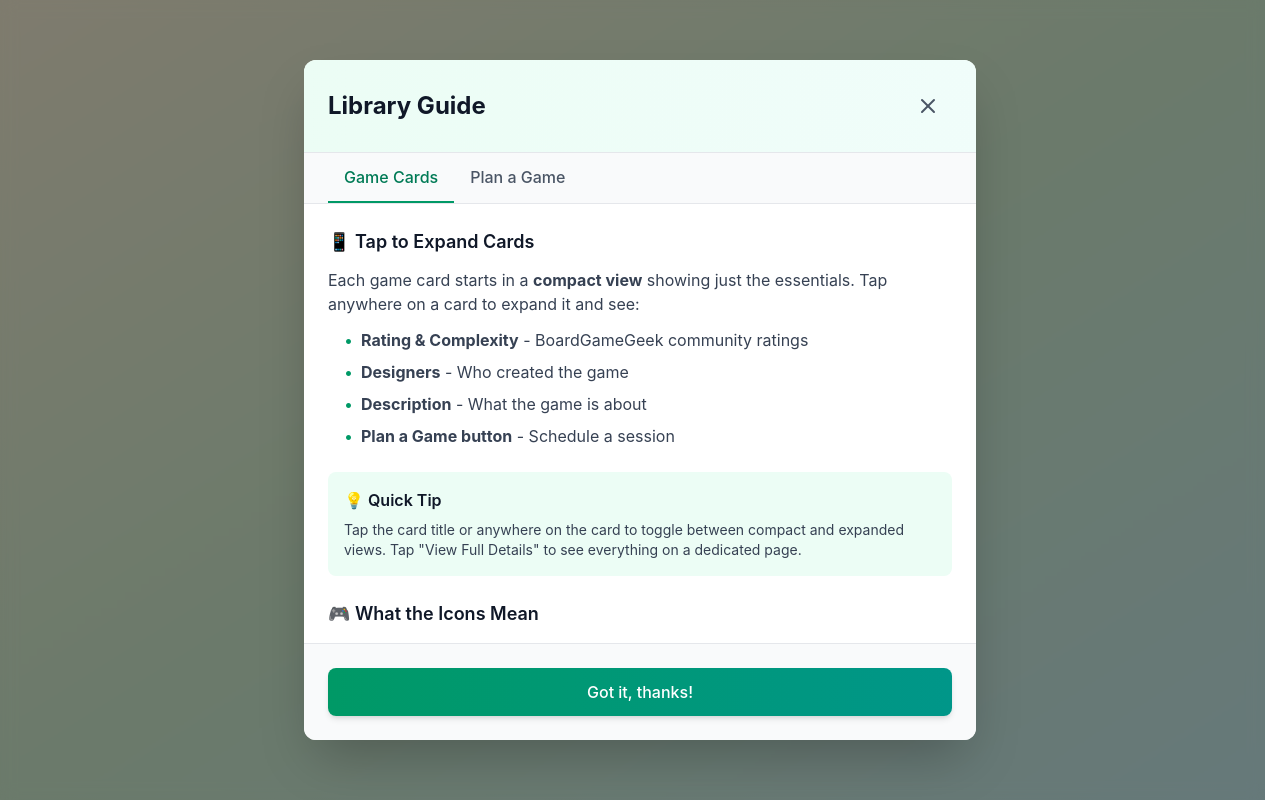
Scenario: HelpModal Component › Tab Switching › switches back to Game Cards tab when clicked
// Switch to AfterGame tab first
Click the button "Plan a Game" at (518, 178), box [454,153,581,203]
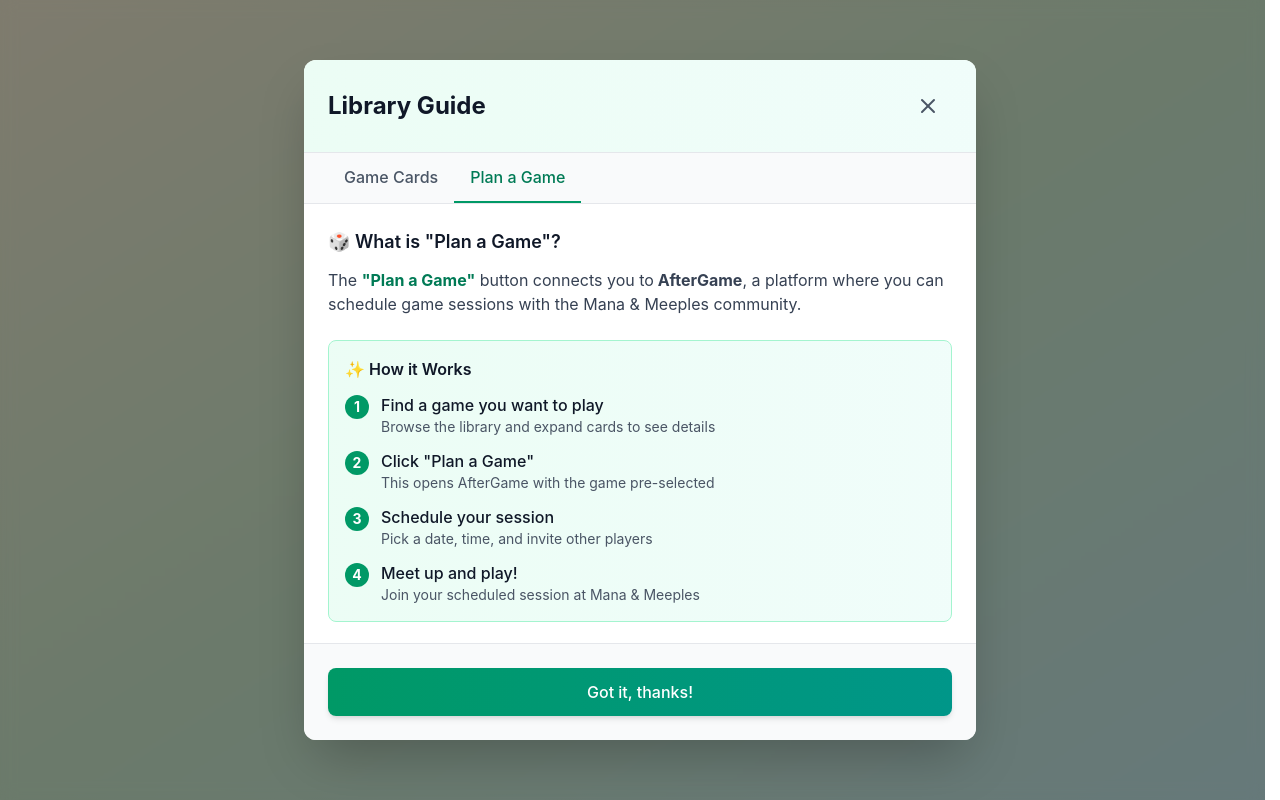
Check: the heading "🎲 What is \"Plan a Game\"?" is shown, box [328,231,561,252]
// Switch back to Game Cards tab
Click the button "Game Cards" at (391, 178), box [328,153,454,203]
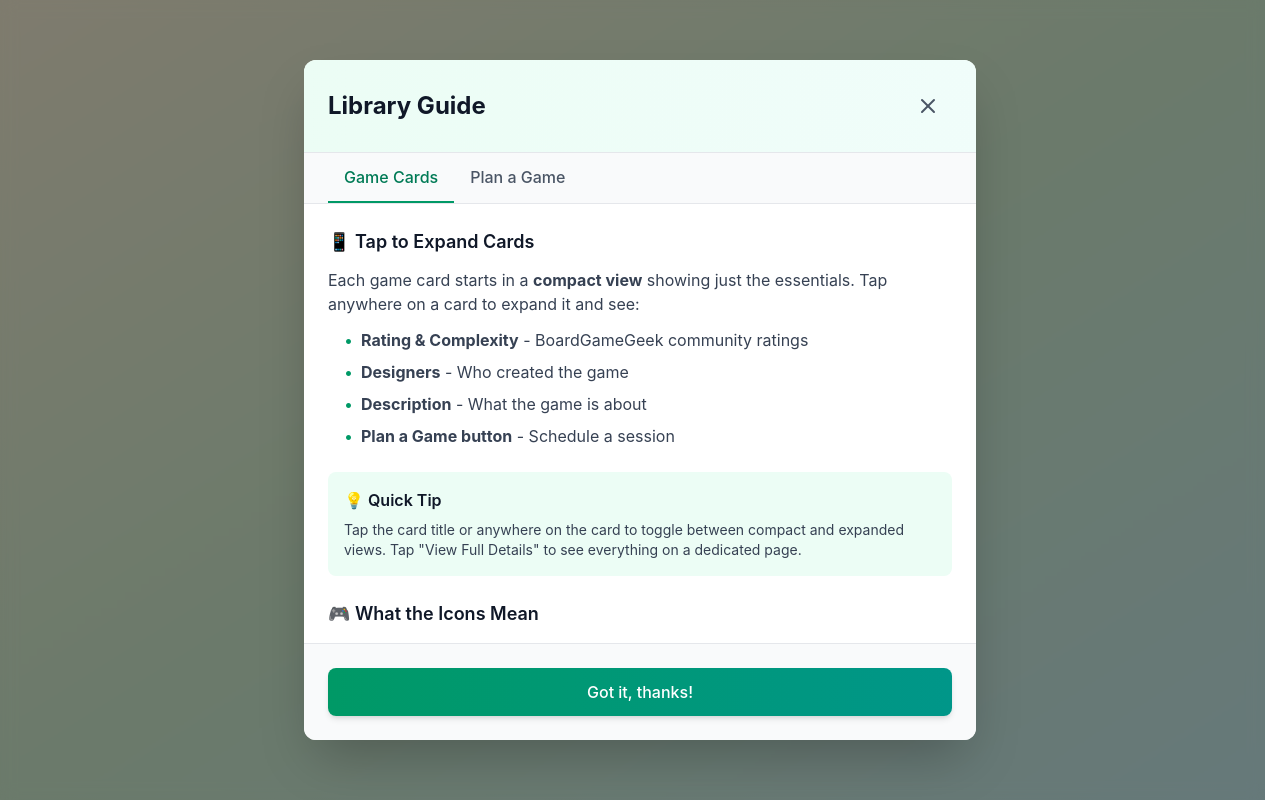
Check: the heading "📱 Tap to Expand Cards" is shown, box [328,231,534,252]
